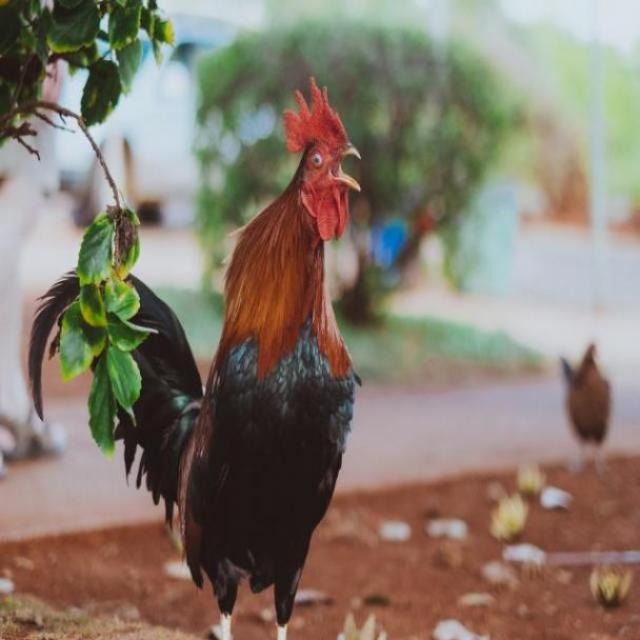Chicken: (26, 74, 361, 639), (552, 340, 619, 483)
